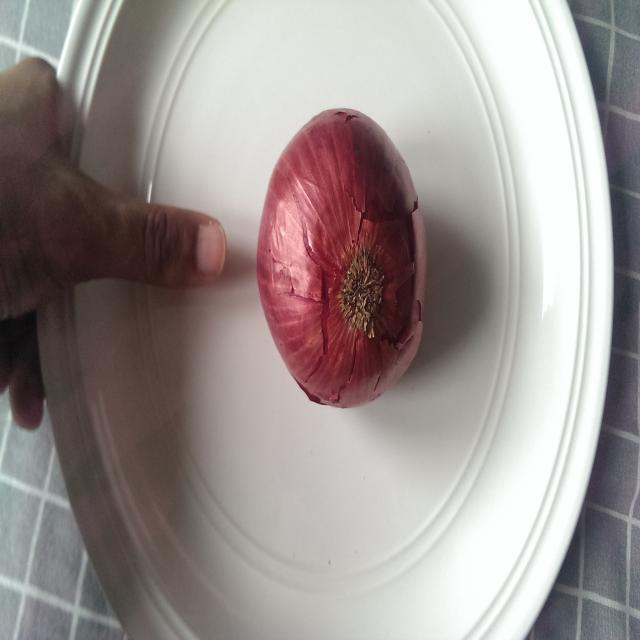onion: (256, 106, 427, 409)
